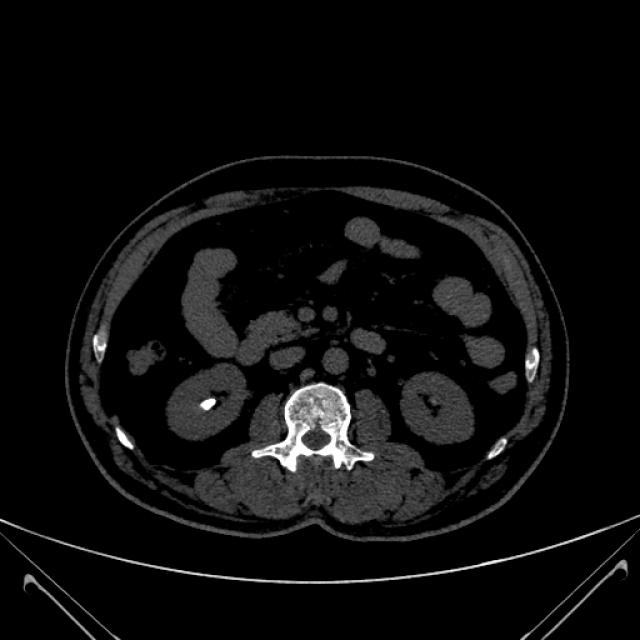kidneystone: (200, 398, 216, 411)
